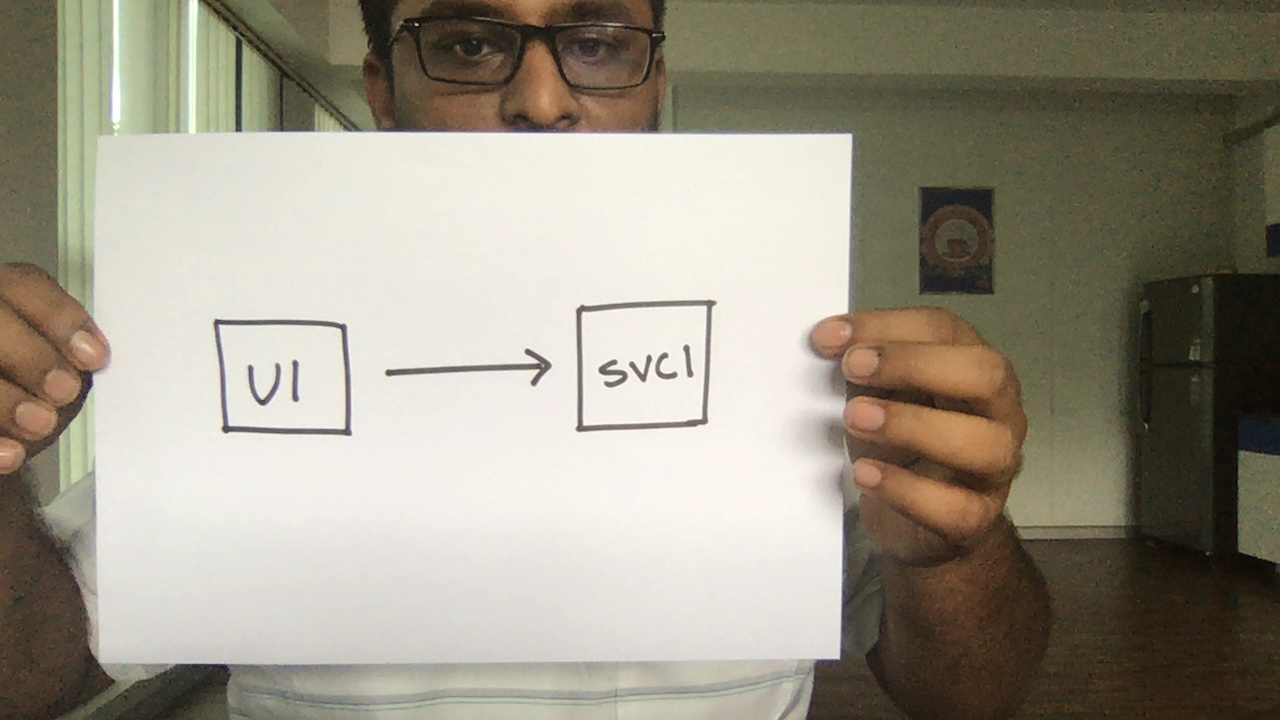arrow: (377, 330, 565, 419)
ec2: (566, 292, 723, 444)
ui: (203, 311, 363, 447)
